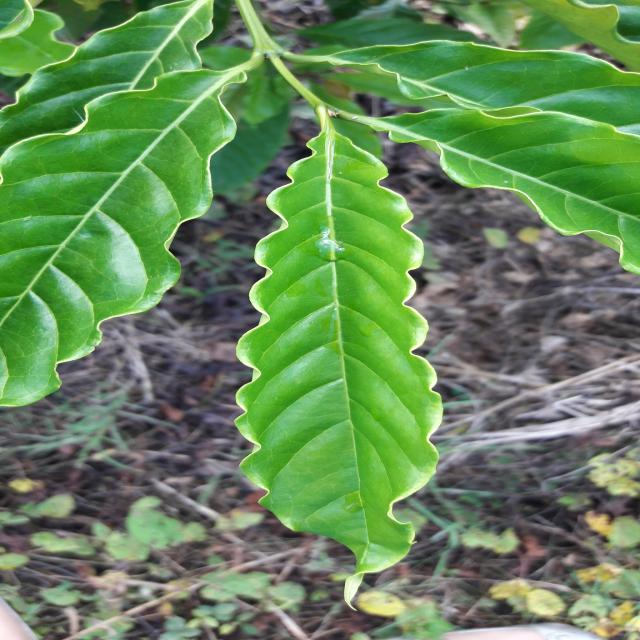Sanas: (234, 115, 443, 579)
